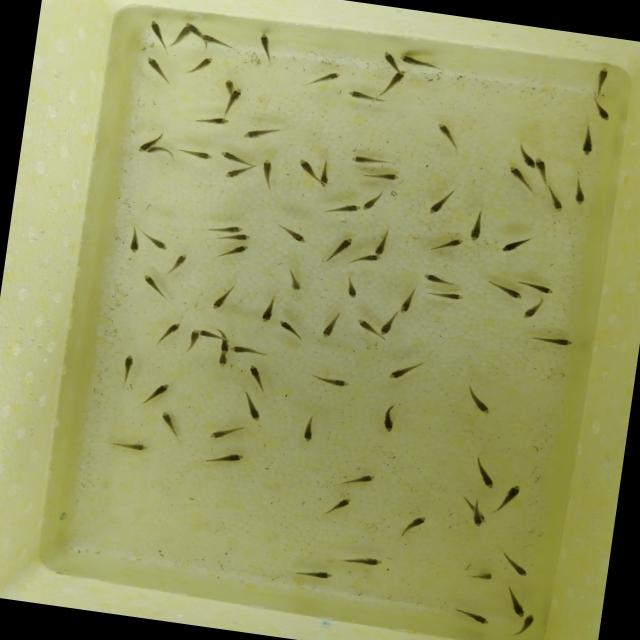fingerling: (142, 15, 173, 51), (497, 478, 527, 512), (317, 494, 353, 522), (494, 549, 530, 577), (463, 208, 489, 246), (500, 584, 528, 617), (498, 233, 534, 258), (138, 52, 170, 80), (426, 188, 454, 218), (398, 510, 428, 538), (238, 395, 266, 425), (464, 390, 494, 418), (520, 292, 548, 322), (378, 403, 402, 438), (272, 222, 310, 244), (380, 68, 413, 93), (472, 463, 501, 491), (396, 51, 436, 70), (312, 373, 354, 391), (414, 270, 456, 288), (339, 553, 381, 571), (136, 270, 165, 296), (348, 153, 394, 169), (188, 54, 216, 80), (328, 236, 354, 264), (146, 378, 174, 404), (206, 288, 234, 314), (431, 234, 464, 256), (312, 65, 345, 87), (242, 126, 278, 146), (488, 282, 524, 302), (220, 240, 256, 260), (290, 566, 334, 582), (577, 128, 599, 160), (591, 63, 613, 95), (513, 146, 540, 172), (116, 352, 136, 387), (318, 312, 341, 342), (272, 318, 304, 339), (246, 362, 270, 390), (292, 156, 320, 180), (534, 334, 576, 350), (384, 363, 414, 385), (155, 408, 180, 434), (433, 120, 458, 146), (212, 449, 247, 467), (460, 568, 497, 585), (357, 190, 383, 214), (590, 100, 614, 126), (112, 438, 151, 454), (503, 164, 531, 186), (362, 170, 406, 184), (302, 412, 321, 444), (513, 614, 536, 640), (343, 470, 376, 488), (200, 33, 234, 50), (330, 201, 362, 219), (544, 190, 568, 214), (224, 86, 243, 116), (220, 164, 248, 184), (206, 424, 234, 444), (158, 321, 182, 344), (455, 610, 489, 626), (256, 31, 276, 58), (398, 289, 418, 316), (168, 253, 190, 277), (216, 150, 249, 166), (354, 312, 376, 336), (258, 157, 276, 186), (210, 222, 247, 236), (346, 88, 378, 104), (317, 158, 333, 190), (379, 50, 402, 72), (371, 230, 389, 258), (571, 180, 589, 208), (378, 314, 398, 339), (214, 230, 249, 244), (181, 148, 216, 162), (524, 282, 554, 298), (142, 235, 170, 252), (259, 300, 276, 328), (198, 114, 232, 128), (228, 345, 264, 358), (354, 252, 383, 268), (284, 268, 302, 292), (126, 228, 142, 255), (469, 503, 484, 531), (435, 290, 466, 303), (170, 28, 190, 48), (210, 353, 233, 369), (534, 156, 550, 178), (182, 20, 204, 36), (220, 326, 232, 354), (186, 327, 202, 347), (198, 329, 222, 341), (344, 282, 358, 301), (134, 142, 152, 154), (224, 78, 234, 92)
